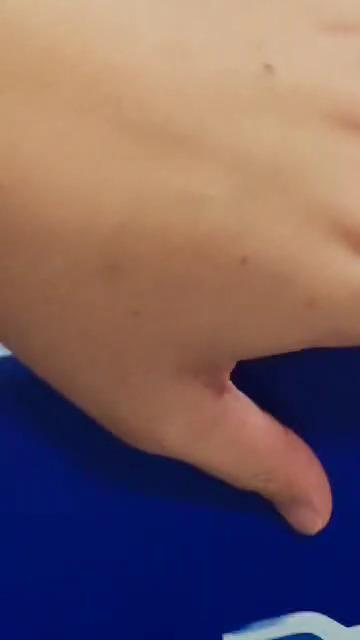B_R1: (46, 553, 360, 640)
